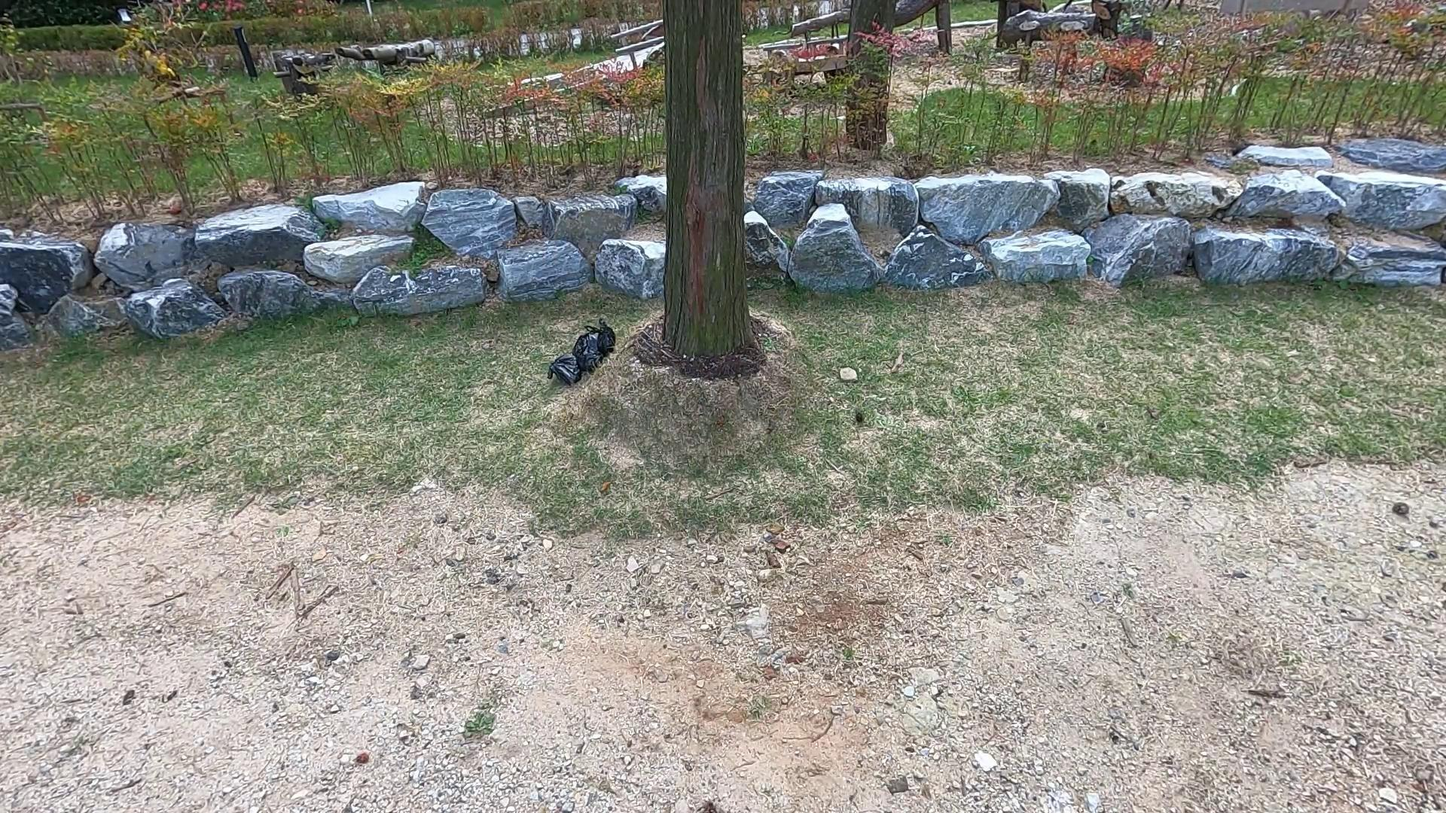trash: (563, 314, 617, 377), (539, 347, 584, 394)
